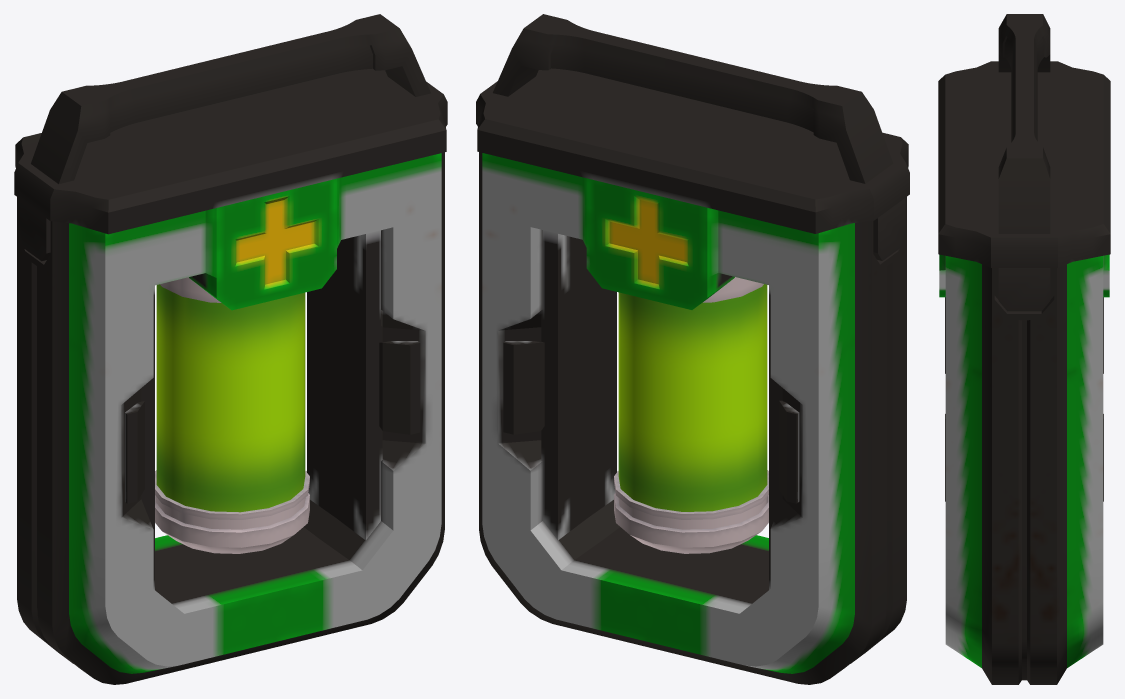
File: Prop_HealthPack.fbx
The picture shows the model from 3 angles, left to right: view 1: azimuth 30°, elevation 25°; view 2: azimuth 150°, elevation 25°; view 3: azimuth 270°, elevation 25°; orthographic projection. The views are drawn at different scales.
Visible parts, largest first — view 1: Prop_HealthPack; view 2: Prop_HealthPack; view 3: Prop_HealthPack.
Part boxes in pixels (box(x1,y1,x2,y2)): Prop_HealthPack: box(14, 14, 447, 684); Prop_HealthPack: box(476, 14, 909, 684); Prop_HealthPack: box(938, 14, 1110, 684).
Bounding box in the file's own units: 43.07 × 60.13 × 17.45.
